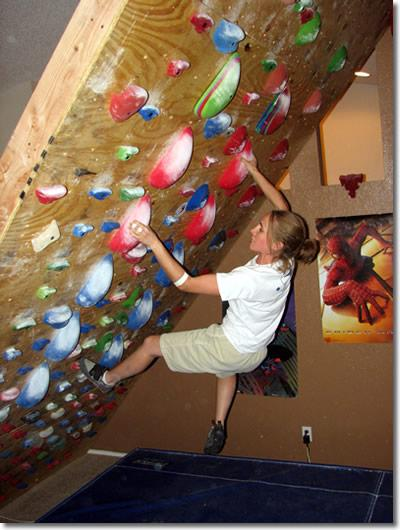person: (80, 156, 317, 458)
